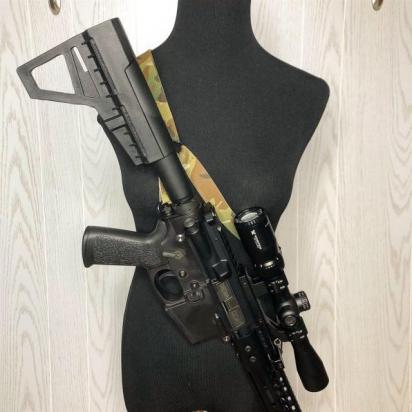Gun: (12, 16, 334, 412)
